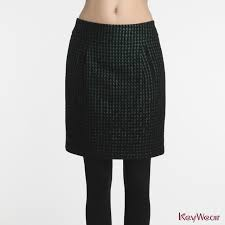S_skirt: (59, 14, 170, 160)
